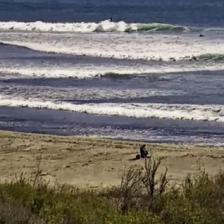surfer: (108, 18, 114, 22), (199, 34, 204, 38)
